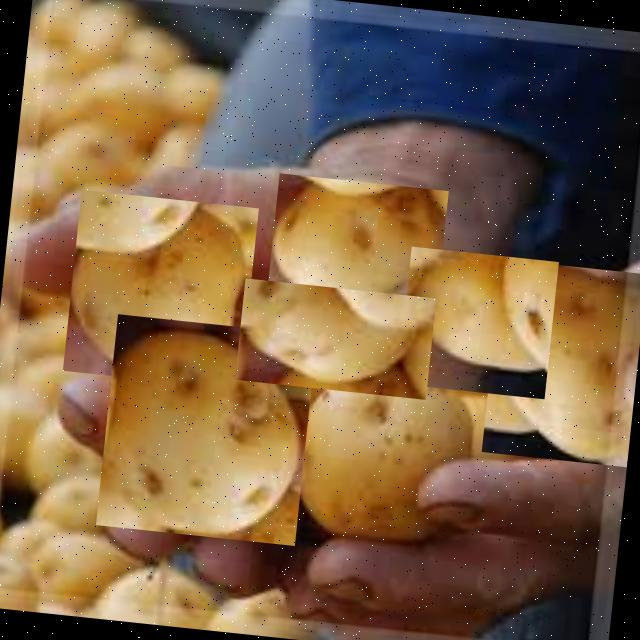Potato: (96, 314, 316, 546), (286, 347, 488, 557), (62, 189, 258, 389), (481, 258, 640, 466), (266, 173, 448, 320), (396, 246, 558, 399), (234, 278, 436, 400)
